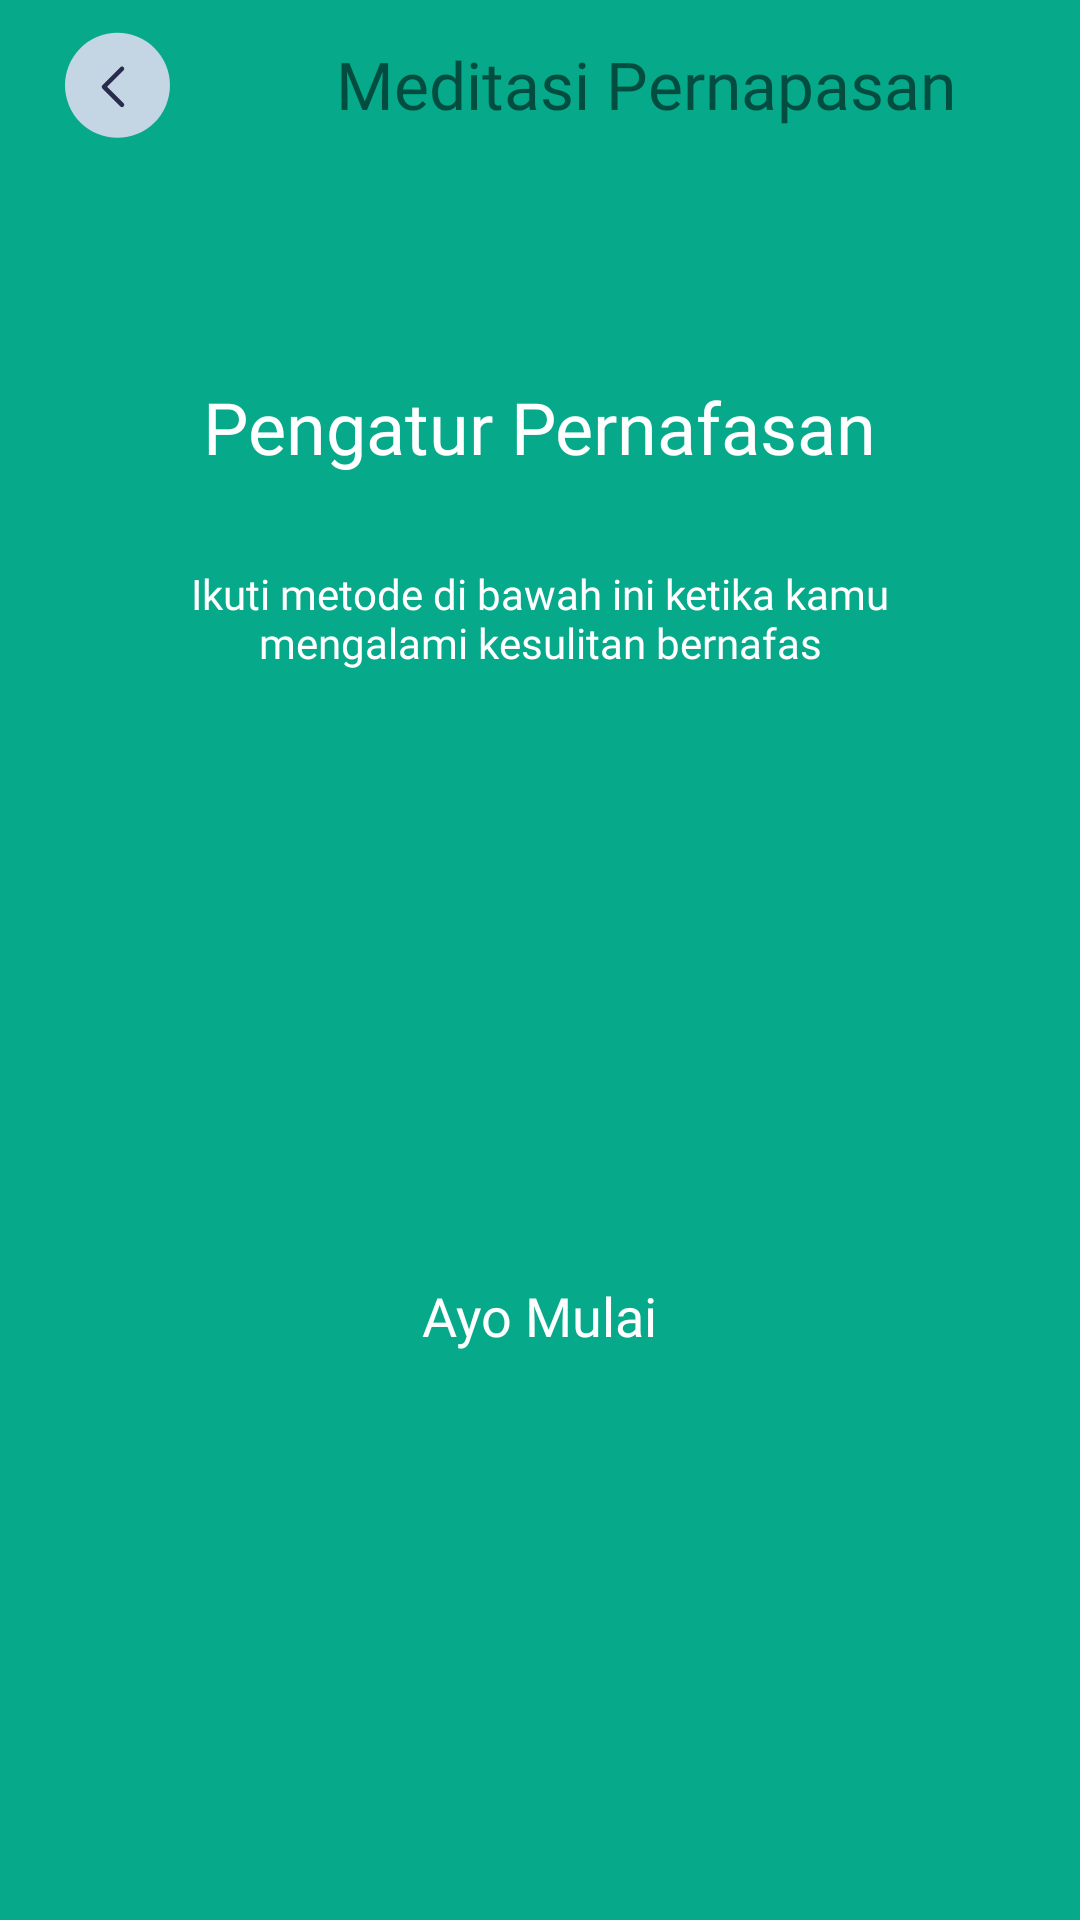

Named icons in this screenshot (1080 x 1920) and their bounding boxes, (x1, y1, x2, y2):
kembali: (65, 32, 170, 138)
